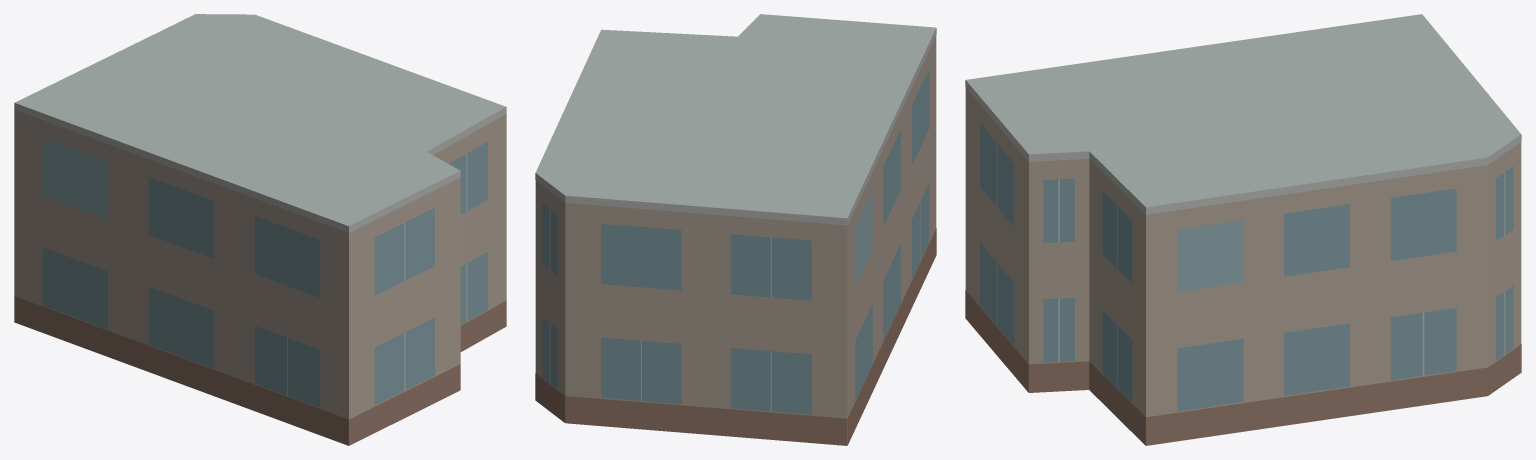
The model's file is survey-upis-33015958.glb.
3 renders of one model, left to right at view 1: azimuth 30°, elevation 25°; view 2: azimuth 150°, elevation 25°; view 3: azimuth 270°, elevation 25°, orthographic. The views are drawn at different scales.
Visible parts, largest first — view 1: survey-upis-33015958.tmp; view 2: survey-upis-33015958.tmp; view 3: survey-upis-33015958.tmp.
Boxes of the visible parts, left/top/right/bottom form: survey-upis-33015958.tmp: left=14, top=14, right=506, bottom=445; survey-upis-33015958.tmp: left=535, top=14, right=936, bottom=445; survey-upis-33015958.tmp: left=965, top=14, right=1521, bottom=445.
Size of the model in its own units: 13.57 by 7.8 by 16.48.
